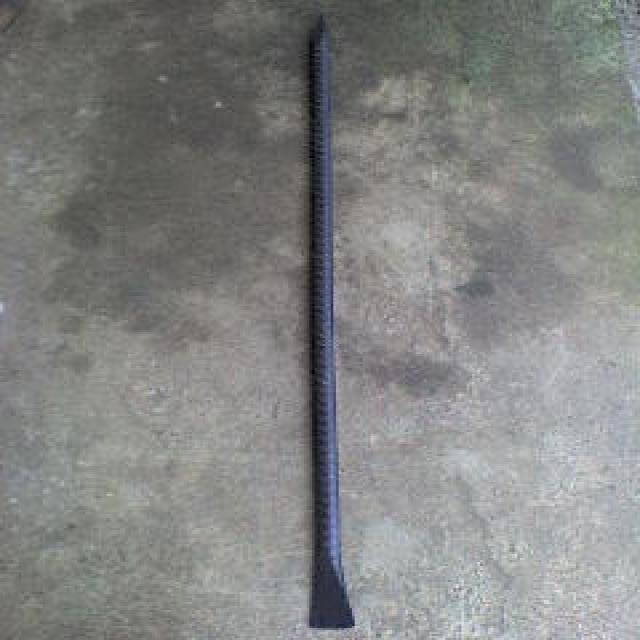Linggis: (278, 20, 376, 640)
